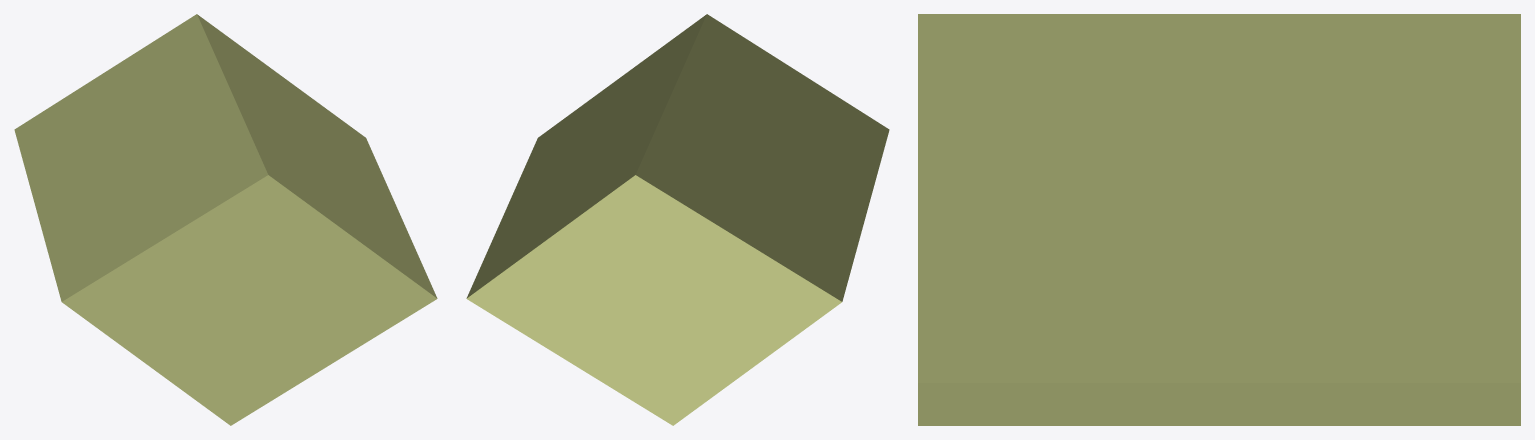
The picture shows the model from 3 angles, left to right: view 1: azimuth 30°, elevation 25°; view 2: azimuth 150°, elevation 25°; view 3: azimuth 270°, elevation 25°; orthographic projection. The views are drawn at different scales.
Parts seen in each view (by area): view 1: 0_0_1_2_0_0_3_0_0_1; view 2: 0_0_1_2_0_0_3_0_0_1; view 3: 0_0_1_2_0_0_3_0_0_1.
Part boxes in pixels (x1,y1,x2,y2): 0_0_1_2_0_0_3_0_0_1: (14, 14, 437, 425); 0_0_1_2_0_0_3_0_0_1: (466, 14, 889, 425); 0_0_1_2_0_0_3_0_0_1: (918, 14, 1520, 425).
Size of the model in its own units: 7.8 by 7.49 by 9.
